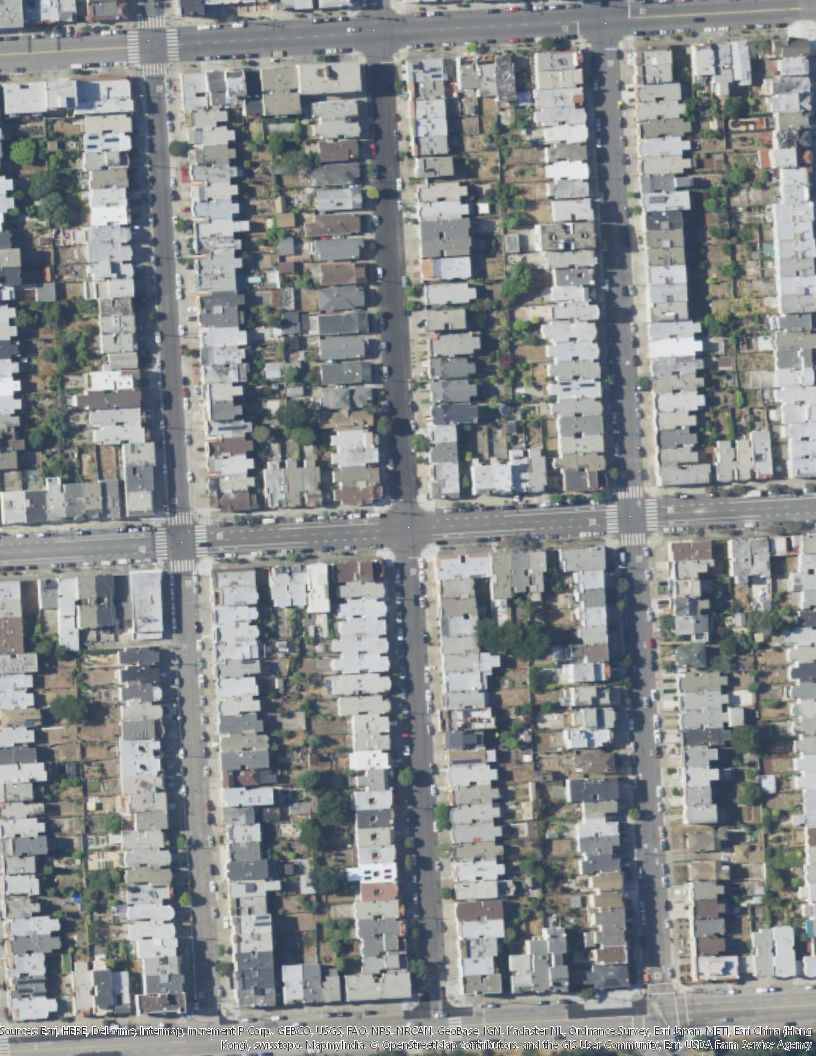zebracross: (126, 31, 141, 65), (153, 527, 168, 561), (604, 499, 618, 535), (193, 526, 209, 557), (645, 498, 659, 532), (138, 14, 168, 29), (167, 28, 179, 61), (166, 512, 193, 526), (447, 1015, 460, 1044), (616, 485, 642, 499), (168, 558, 195, 571), (142, 62, 167, 76), (621, 533, 647, 546)
